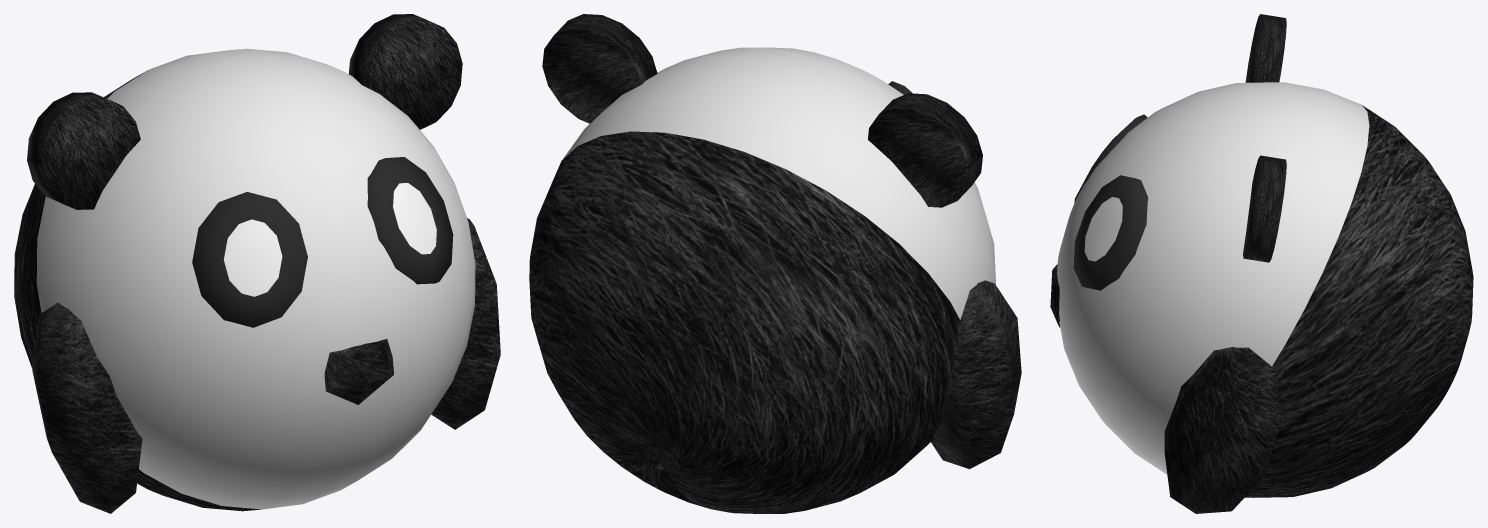
Rendered from panda_sphere_model1.fbx.
3 views of the same model, side by side, from view 1: azimuth 30°, elevation 25°; view 2: azimuth 150°, elevation 25°; view 3: azimuth 270°, elevation 25° (orthographic). The views are drawn at different scales.
Parts seen in each view (by area): view 1: panda_sphere_test.002; view 2: panda_sphere_test.002; view 3: panda_sphere_test.002.
Boxes of the visible parts, x1,y1,x2,y2 form: panda_sphere_test.002: (14, 14, 500, 513); panda_sphere_test.002: (529, 14, 1021, 513); panda_sphere_test.002: (1050, 14, 1473, 513).
Bounding box in the file's own units: 113 × 103 × 101.
